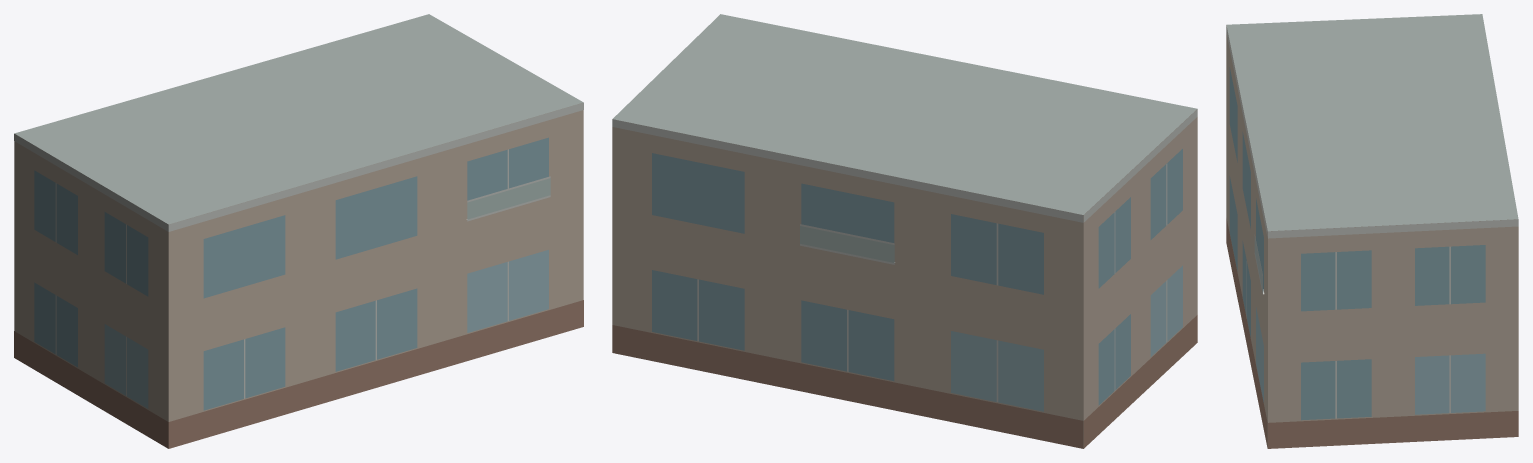
The model's file is survey-upis-32619321.glb.
3 views of the same model, side by side, from view 1: azimuth 30°, elevation 25°; view 2: azimuth 150°, elevation 25°; view 3: azimuth 270°, elevation 25° (orthographic). The views are drawn at different scales.
Parts seen in each view (by area): view 1: survey-upis-32619321.tmp; view 2: survey-upis-32619321.tmp; view 3: survey-upis-32619321.tmp.
Boxes of the visible parts, x1,y1,x2,y2 form: survey-upis-32619321.tmp: [14, 14, 583, 448]; survey-upis-32619321.tmp: [612, 14, 1197, 448]; survey-upis-32619321.tmp: [1226, 14, 1518, 448].
Size of the model in its own units: 15.64 by 7.3 by 8.89.
